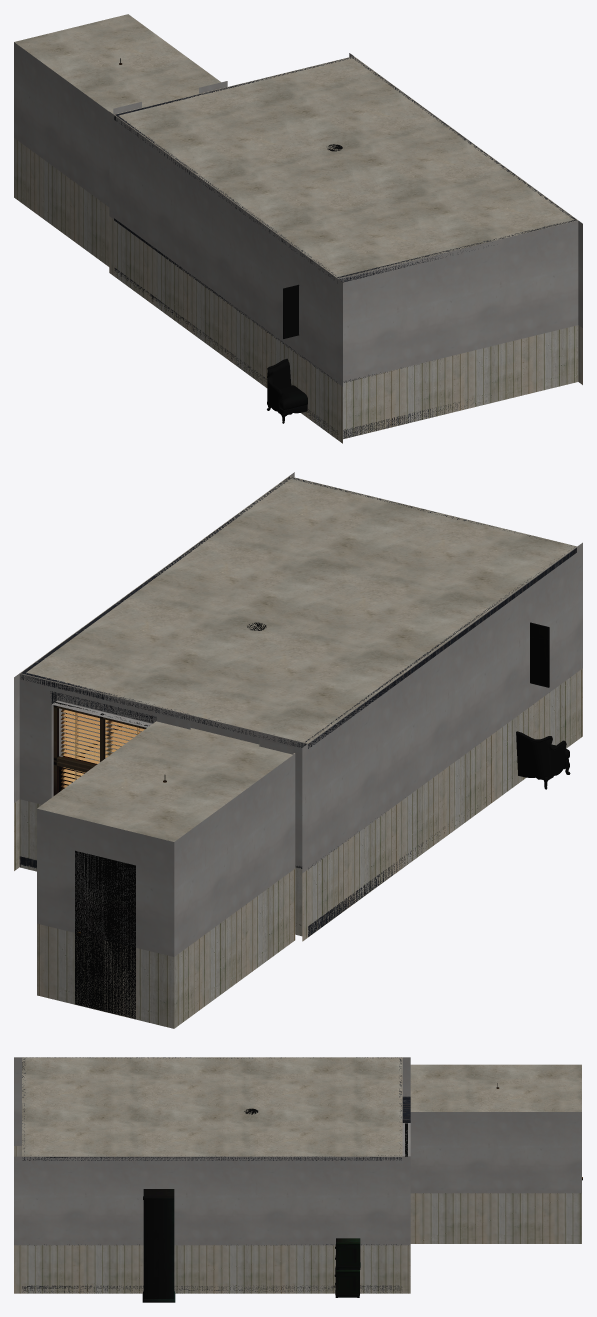
The model's file is env_office.glb.
The picture shows the model from 3 angles, top to bottom: view 1: azimuth 30°, elevation 25°; view 2: azimuth 150°, elevation 25°; view 3: azimuth 270°, elevation 25°; orthographic projection. The views are drawn at different scales.
Visible parts, largest first — view 1: SHELL, PROPS; view 2: SHELL, PROPS; view 3: SHELL, PROPS.
Part boxes in pixels (x1,y1,x2,y2): SHELL: (14,14,582,443); PROPS: (119,58,342,423); SHELL: (14,472,582,1028); PROPS: (53,622,570,1018); SHELL: (14,1057,581,1293); PROPS: (142,1083,582,1302).
Bounding box in the file's own units: 5.03 × 2.7 × 10.16.
9 materials, 9 textured.
